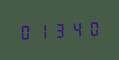four: (66, 19, 81, 38)
one: (34, 21, 49, 40)
three: (50, 20, 65, 39)
zero: (82, 18, 97, 38), (18, 22, 33, 41)
